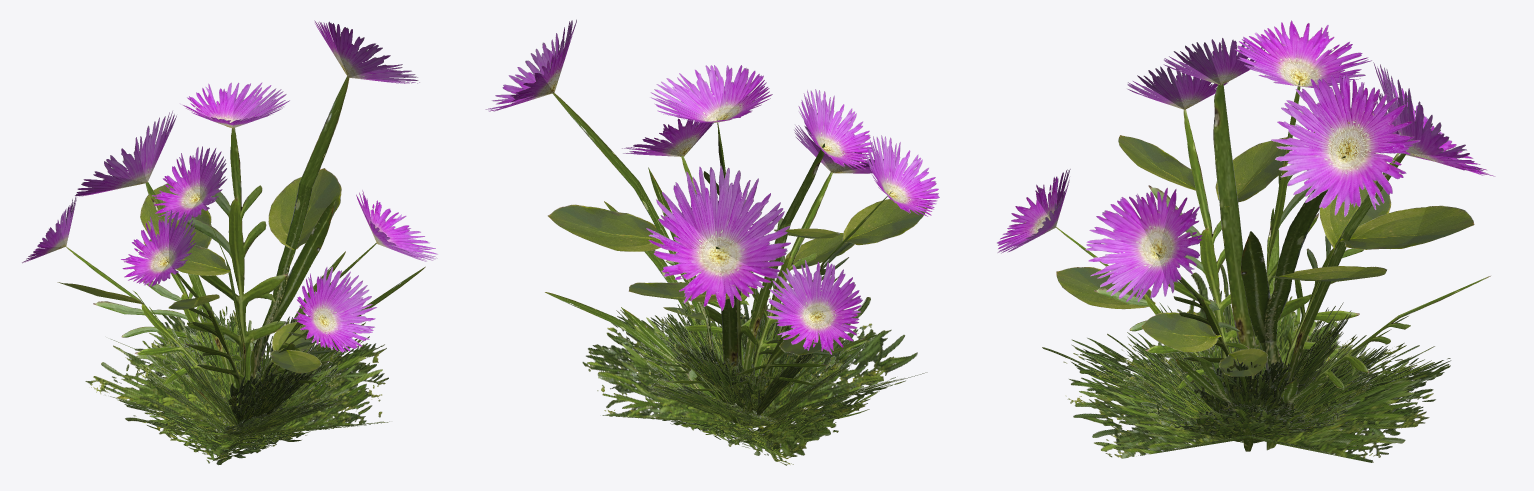
File: PW_Flower_Cluster_04.fbx
3 views of the same model, side by side, from view 1: azimuth 30°, elevation 25°; view 2: azimuth 150°, elevation 25°; view 3: azimuth 270°, elevation 25° (orthographic). The views are drawn at different scales.
Visible parts, largest first — view 1: PW_Flower_Cluster_04_LOD0; view 2: PW_Flower_Cluster_04_LOD0; view 3: PW_Flower_Cluster_04_LOD0.
Part boxes in pixels (bbox=[...]): PW_Flower_Cluster_04_LOD0: bbox=[22, 20, 437, 465]; PW_Flower_Cluster_04_LOD0: bbox=[485, 19, 939, 465]; PW_Flower_Cluster_04_LOD0: bbox=[997, 20, 1495, 462].
Size of what is drawn, in the model's own units: 56.64 by 53.97 by 56.69.
Materials: 1 (1 with a texture image).
